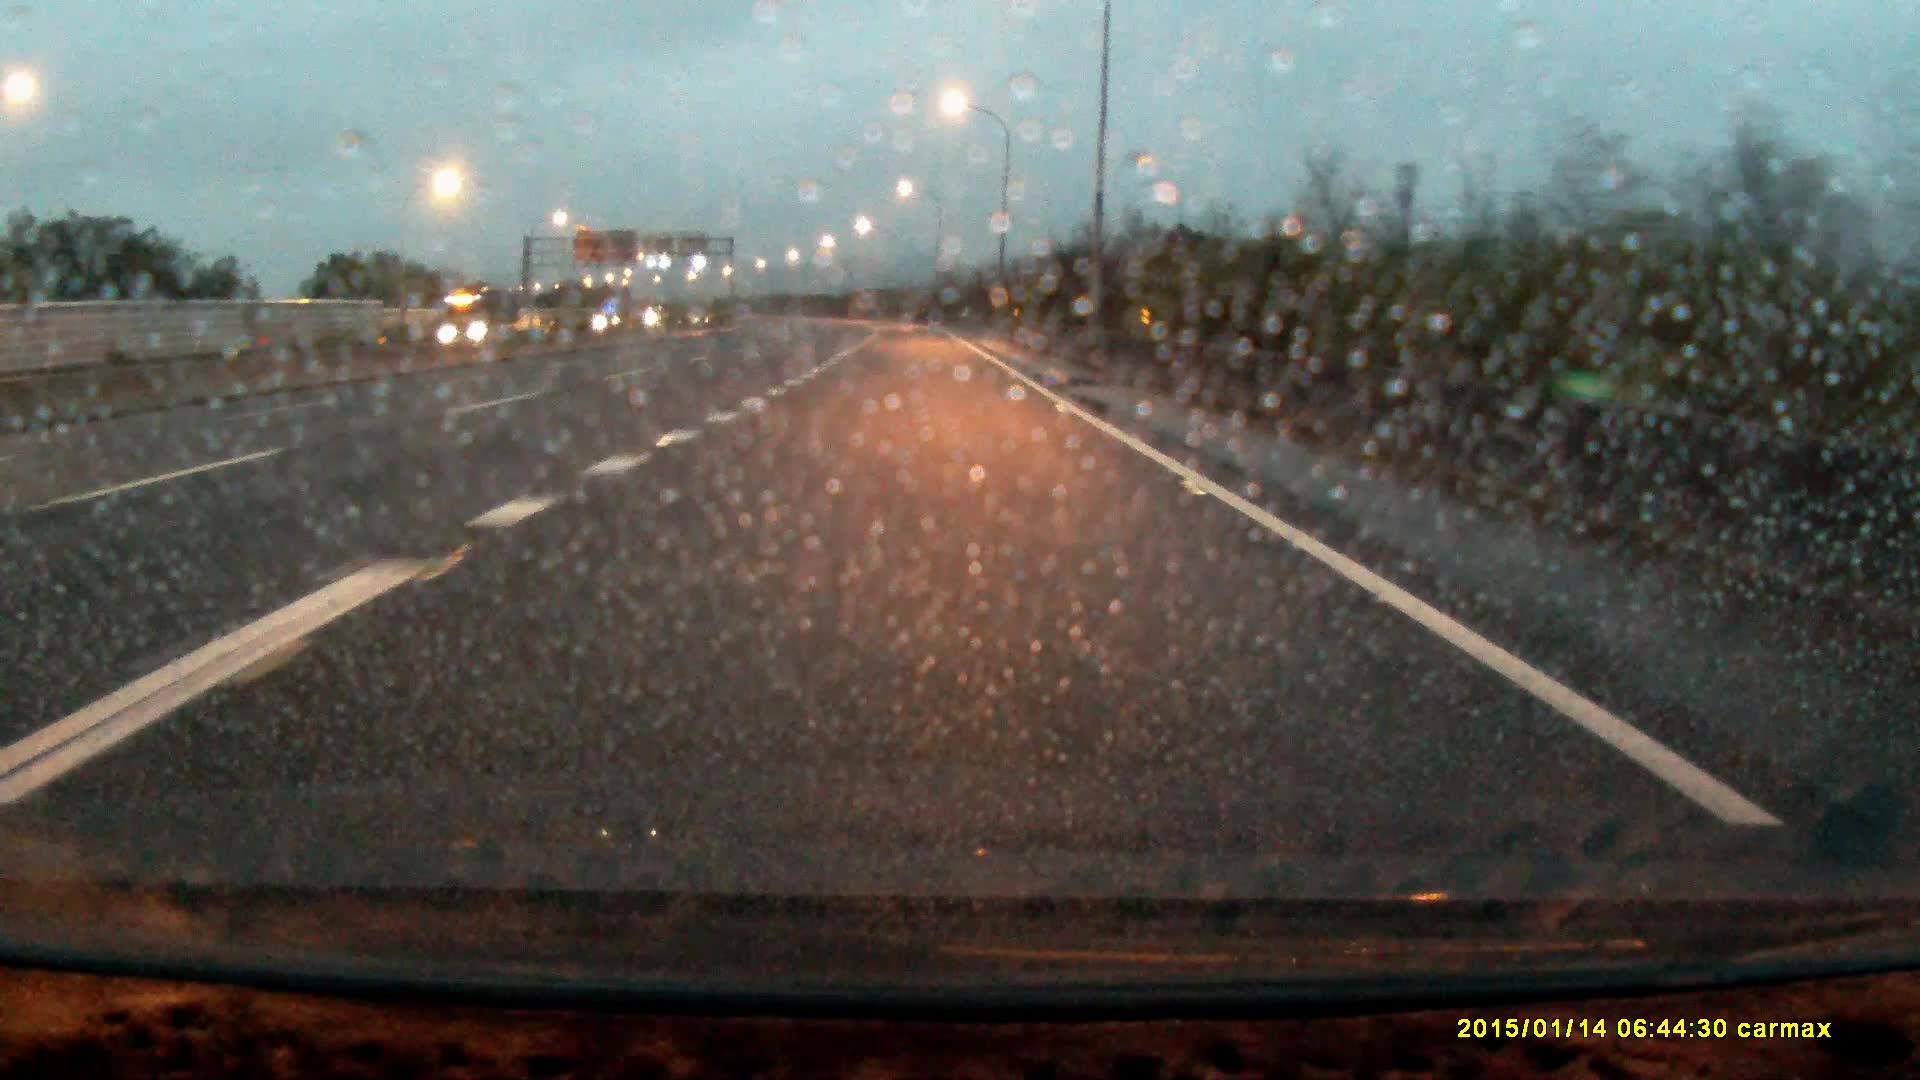vehicle: (442, 294, 510, 342)
